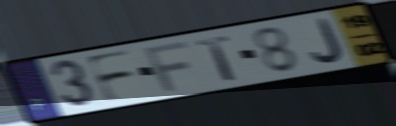3: (47, 57, 97, 111)
8: (252, 25, 299, 74)
F: (83, 47, 139, 105), (141, 39, 191, 93)
J: (309, 16, 346, 65)
T: (193, 33, 240, 83)
